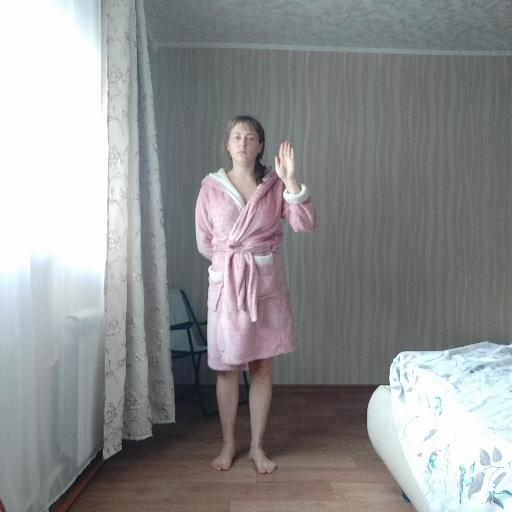stop: (272, 139, 297, 182)
